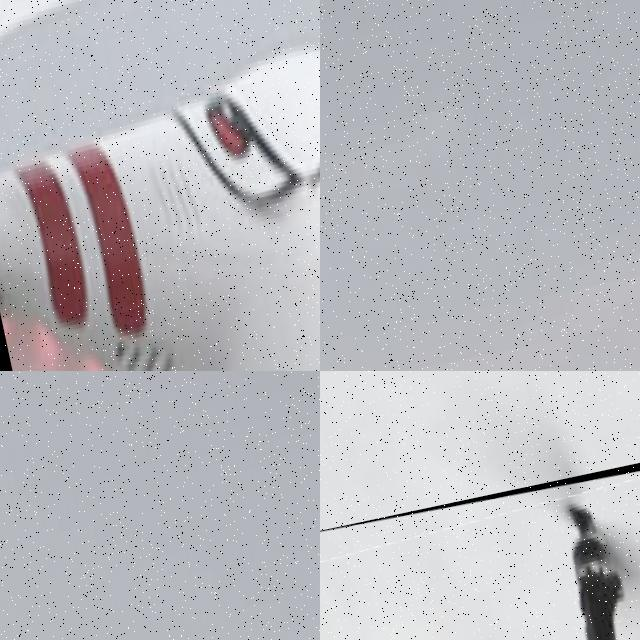drone: (0, 0, 320, 371), (320, 407, 640, 640)
